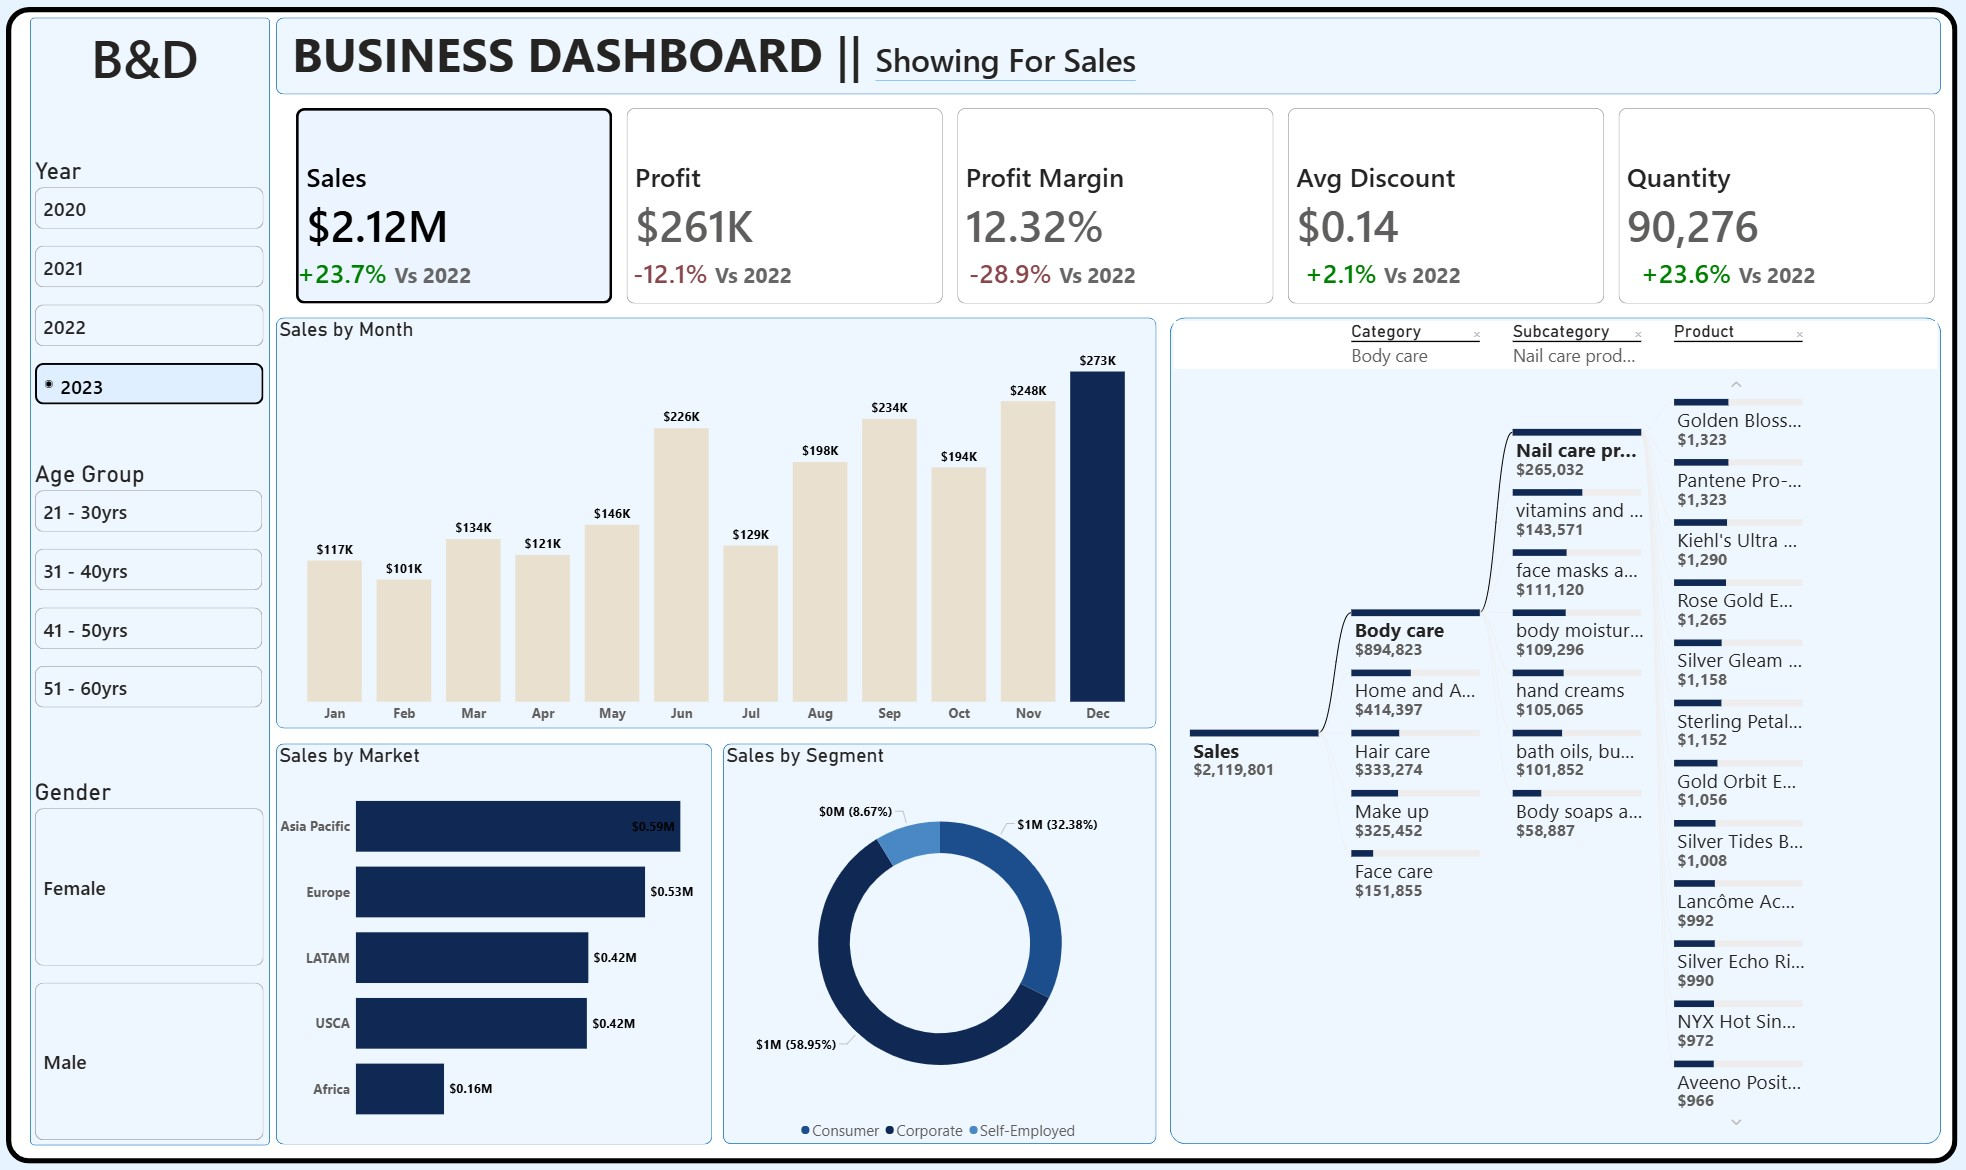

This screenshot's page, from the dashboard's own definition file:
{"tool":"powerbi","page":{"name":"Page 1","canvas":[3000,1800],"ordinal":0},"visuals":[{"type":"shape","box":[18.2,22.8,2962.8,1755.8],"z":0},{"type":"shape","box":[54.7,38.7,364.4,1712.6],"z":1},{"type":"shape","box":[428.5,39,2527.8,116.9],"z":2},{"type":"shape","box":[428.1,494.2,1336.8,624],"z":3},{"type":"shape","box":[1785.4,494.2,1170.6,1254.8],"z":4},{"type":"shape","box":[1106.8,1140.9,658.2,608],"z":5},{"type":"shape","box":[428.5,1141.9,662.2,608.9],"z":6},{"type":"advancedSlicerVisual","fields":{"Values":["Agg.Agg"]},"box":[453.2,170.8,2502.8,307.4],"z":9},{"type":"cardVisual","fields":{"Data":["Measure_Table.Sales","Measure_Table.Profit","Measure_Table.Profit Margin","Measure_Table.Avg Discount","Measure_Table.Quantity"]},"box":[419,271,2580.2,207.2],"z":10},{"type":"clusteredColumnChart","fields":{"Category":["Date Table.Month"],"Y":["Measure_Table.Sales"]},"box":[428.1,494.2,1336.8,624],"z":11},{"type":"clusteredBarChart","fields":{"Category":["Data.Market","Data.Region","Data.Country","Data.State","Data.City"],"Y":["Measure_Table.Sales"]},"box":[428.1,1140.9,662.7,610.3],"z":12},{"type":"donutChart","fields":{"Y":["Measure_Table.Sales"],"Series":["Data.Segment"]},"box":[1106.8,1140.9,658.2,610.3],"z":13},{"type":"decompositionTreeVisual","fields":{"Analyze":["Measure_Table.Sales"],"ExplainBy":["Data.Category","Data.Subcategory","Data.Product"]},"box":[1785.4,494.2,1170.6,1254.8],"z":14},{"type":"advancedSlicerVisual","fields":{"Values":["Data.Age Group"]},"box":[56.9,710.5,355.3,382.6],"z":15},{"type":"advancedSlicerVisual","fields":{"Values":["Data.Gender"]},"box":[56.9,1193.3,357.5,555.7],"z":17},{"type":"advancedSlicerVisual","fields":{"Values":["Date Table.Year"]},"box":[56.9,250.5,357.5,382.6],"z":18},{"type":"textbox","box":[428.1,38.7,1762.7,116.1],"z":19},{"type":"textbox","box":[56.9,38.7,343.9,116.1],"z":20}]}

Visuals, with their boxes in screenshot pixels (x1, y1, x2, y2), scaled from the page's 3000x1800 canvas onto the 1966x1170 screenshot:
shape: (left=12, top=15, right=1954, bottom=1156)
shape: (left=36, top=25, right=275, bottom=1138)
shape: (left=281, top=25, right=1937, bottom=101)
shape: (left=281, top=321, right=1157, bottom=727)
shape: (left=1170, top=321, right=1937, bottom=1137)
shape: (left=725, top=742, right=1157, bottom=1137)
shape: (left=281, top=742, right=715, bottom=1138)
advancedSlicerVisual - Agg.Agg: (left=297, top=111, right=1937, bottom=311)
cardVisual - Measure_Table.Sales x Measure_Table.Profit: (left=275, top=176, right=1965, bottom=311)
clusteredColumnChart - Date Table.Month x Measure_Table.Sales: (left=281, top=321, right=1157, bottom=727)
clusteredBarChart - Data.Market x Data.Region: (left=281, top=742, right=715, bottom=1138)
donutChart - Measure_Table.Sales x Data.Segment: (left=725, top=742, right=1157, bottom=1138)
decompositionTreeVisual - Measure_Table.Sales x Data.Category: (left=1170, top=321, right=1937, bottom=1137)
advancedSlicerVisual - Data.Age Group: (left=37, top=462, right=270, bottom=711)
advancedSlicerVisual - Data.Gender: (left=37, top=776, right=272, bottom=1137)
advancedSlicerVisual - Date Table.Year: (left=37, top=163, right=272, bottom=412)
textbox: (left=281, top=25, right=1436, bottom=101)
textbox: (left=37, top=25, right=263, bottom=101)
